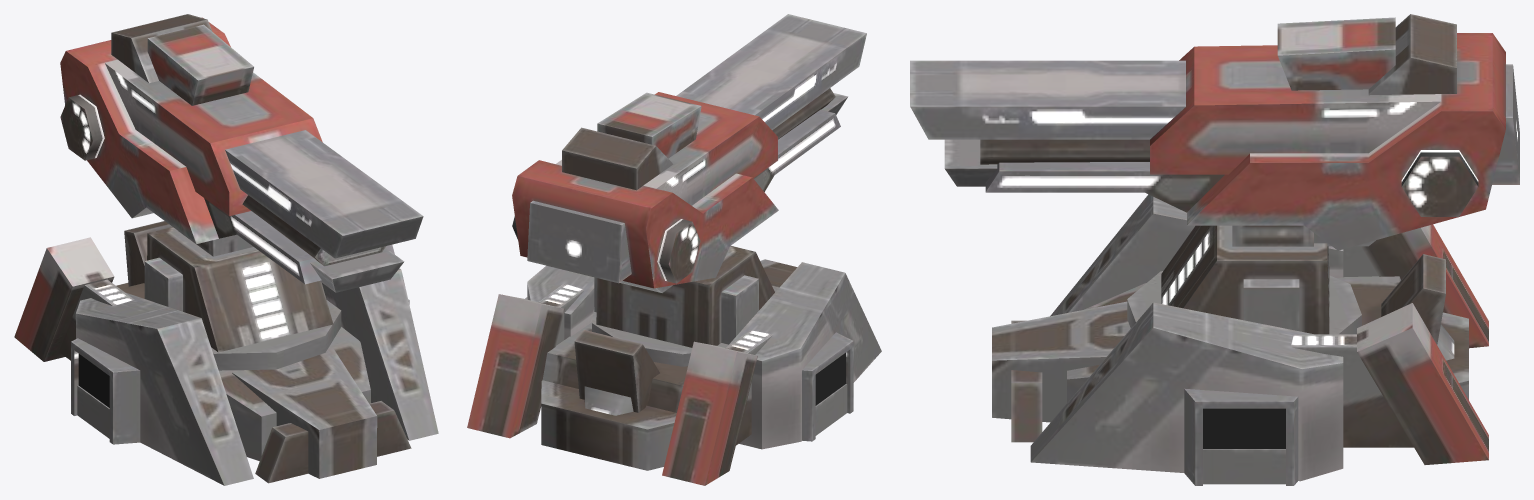
3 renders of one model, left to right at view 1: azimuth 30°, elevation 25°; view 2: azimuth 150°, elevation 25°; view 3: azimuth 270°, elevation 25°, orthographic. The views are drawn at different scales.
Parts seen in each view (by area): view 1: turret-cannon-lod1; view 2: turret-cannon-lod1; view 3: turret-cannon-lod1.
Boxes of the visible parts, x1,y1,x2,y2 form: turret-cannon-lod1: (14, 14, 438, 485); turret-cannon-lod1: (467, 14, 881, 485); turret-cannon-lod1: (910, 14, 1519, 485).
Size of the model in its own units: 6.09 by 6.16 by 9.26.
2 materials, 1 textured.
